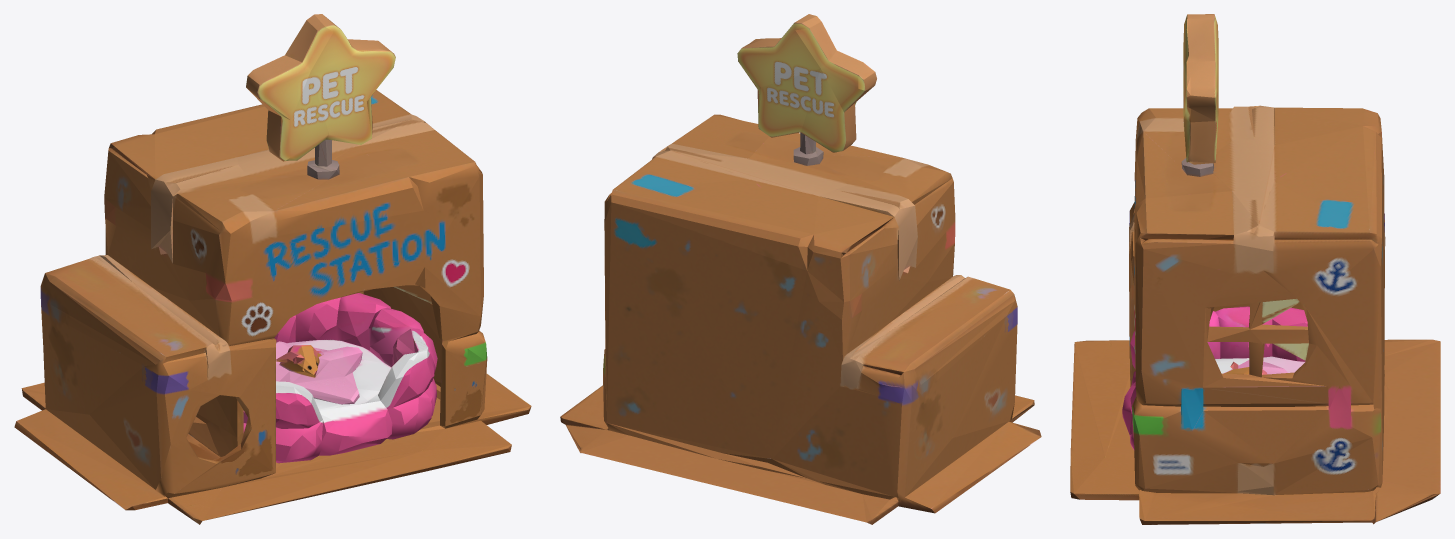
The picture shows the model from 3 angles, left to right: view 1: azimuth 30°, elevation 25°; view 2: azimuth 150°, elevation 25°; view 3: azimuth 270°, elevation 25°; orthographic projection. The views are drawn at different scales.
Size of the model in its own units: 1.89 by 1.86 by 1.47.
Materials: 1 (1 with a texture image).
